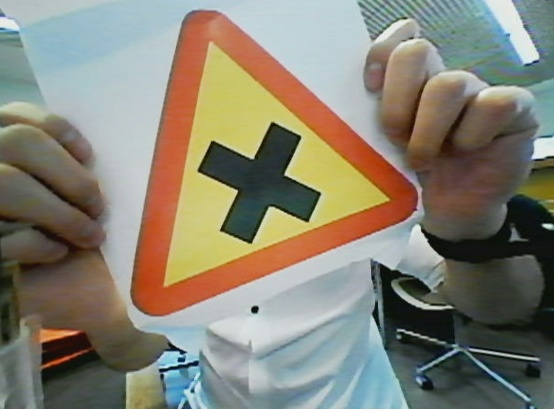junction: (113, 6, 427, 324)
